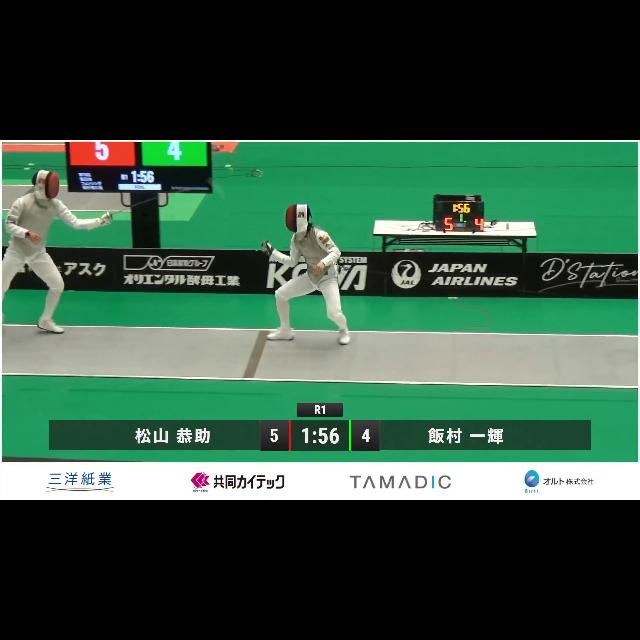blade: (206, 178, 274, 254), (103, 184, 195, 222)
